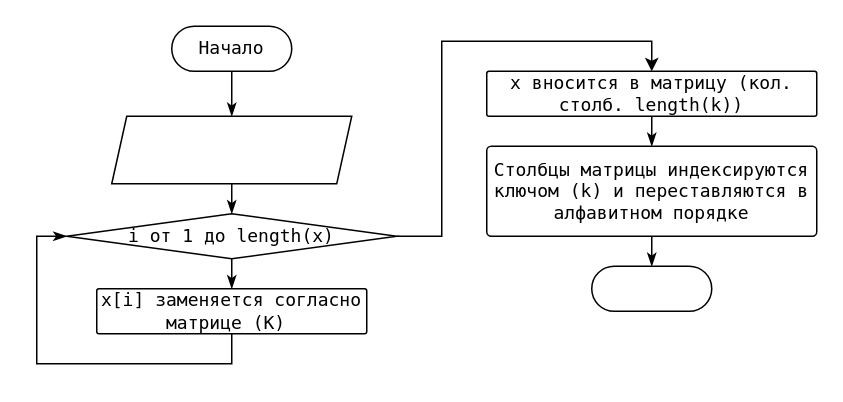
The diagram is 843 pixels wide and 402 high, and some of its shapes have lost their labels. The shapes that lost their labels are listed below. From the top down, each one's centre as x and y in pixels, then its label:
At (x=231, y=149): "текст (x) ключ (k) матрица-ключ (K)".
At (x=651, y=288): "Конец".
